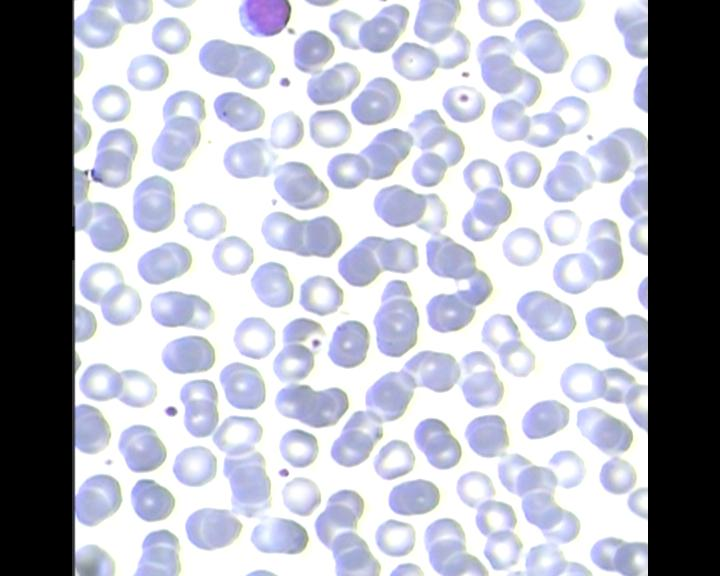lymp: (234, 0, 295, 43)
